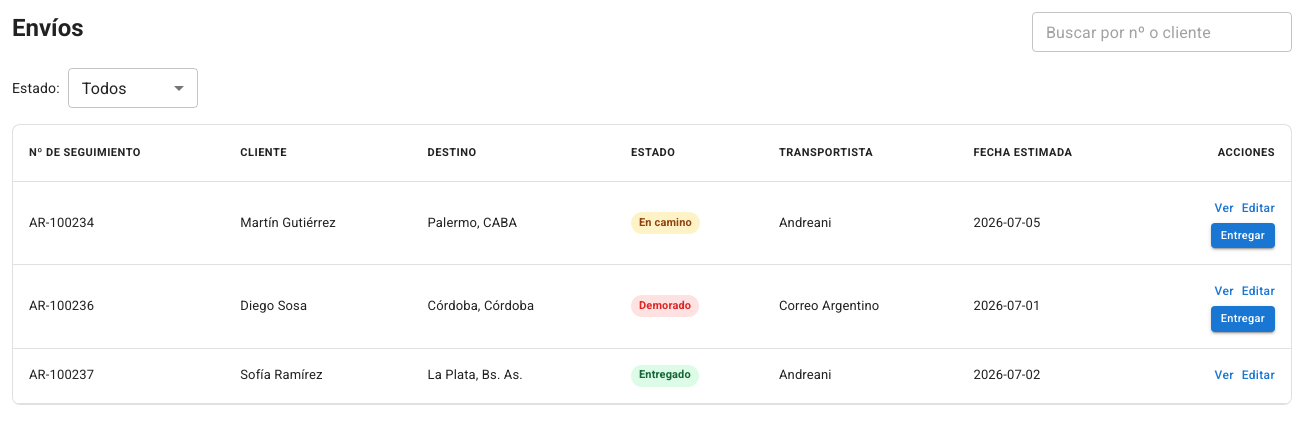
Test case: ShipmentsPage › obtiene los estados disponibles del backend
Expected: the text "AR-100234" is shown, [13, 182, 224, 265]
What coordinates should you click on to do the following:
click the dropdown
I would click on:
 (104, 88)
Its box is [82, 78, 127, 98].
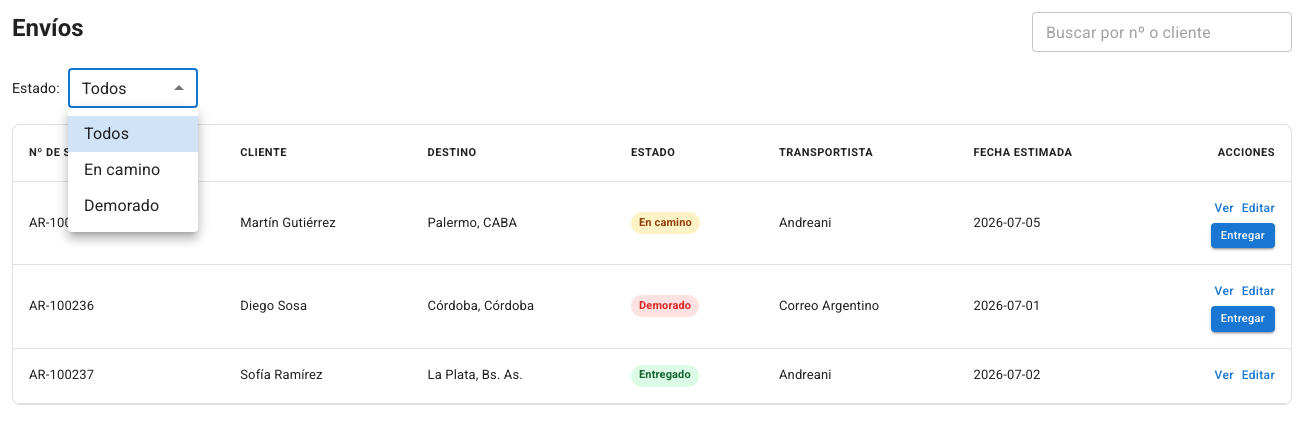
Expected: the option "En camino" is shown, [84, 160, 160, 179]
Expected: the option "Demorado" is shown, [84, 196, 159, 215]
